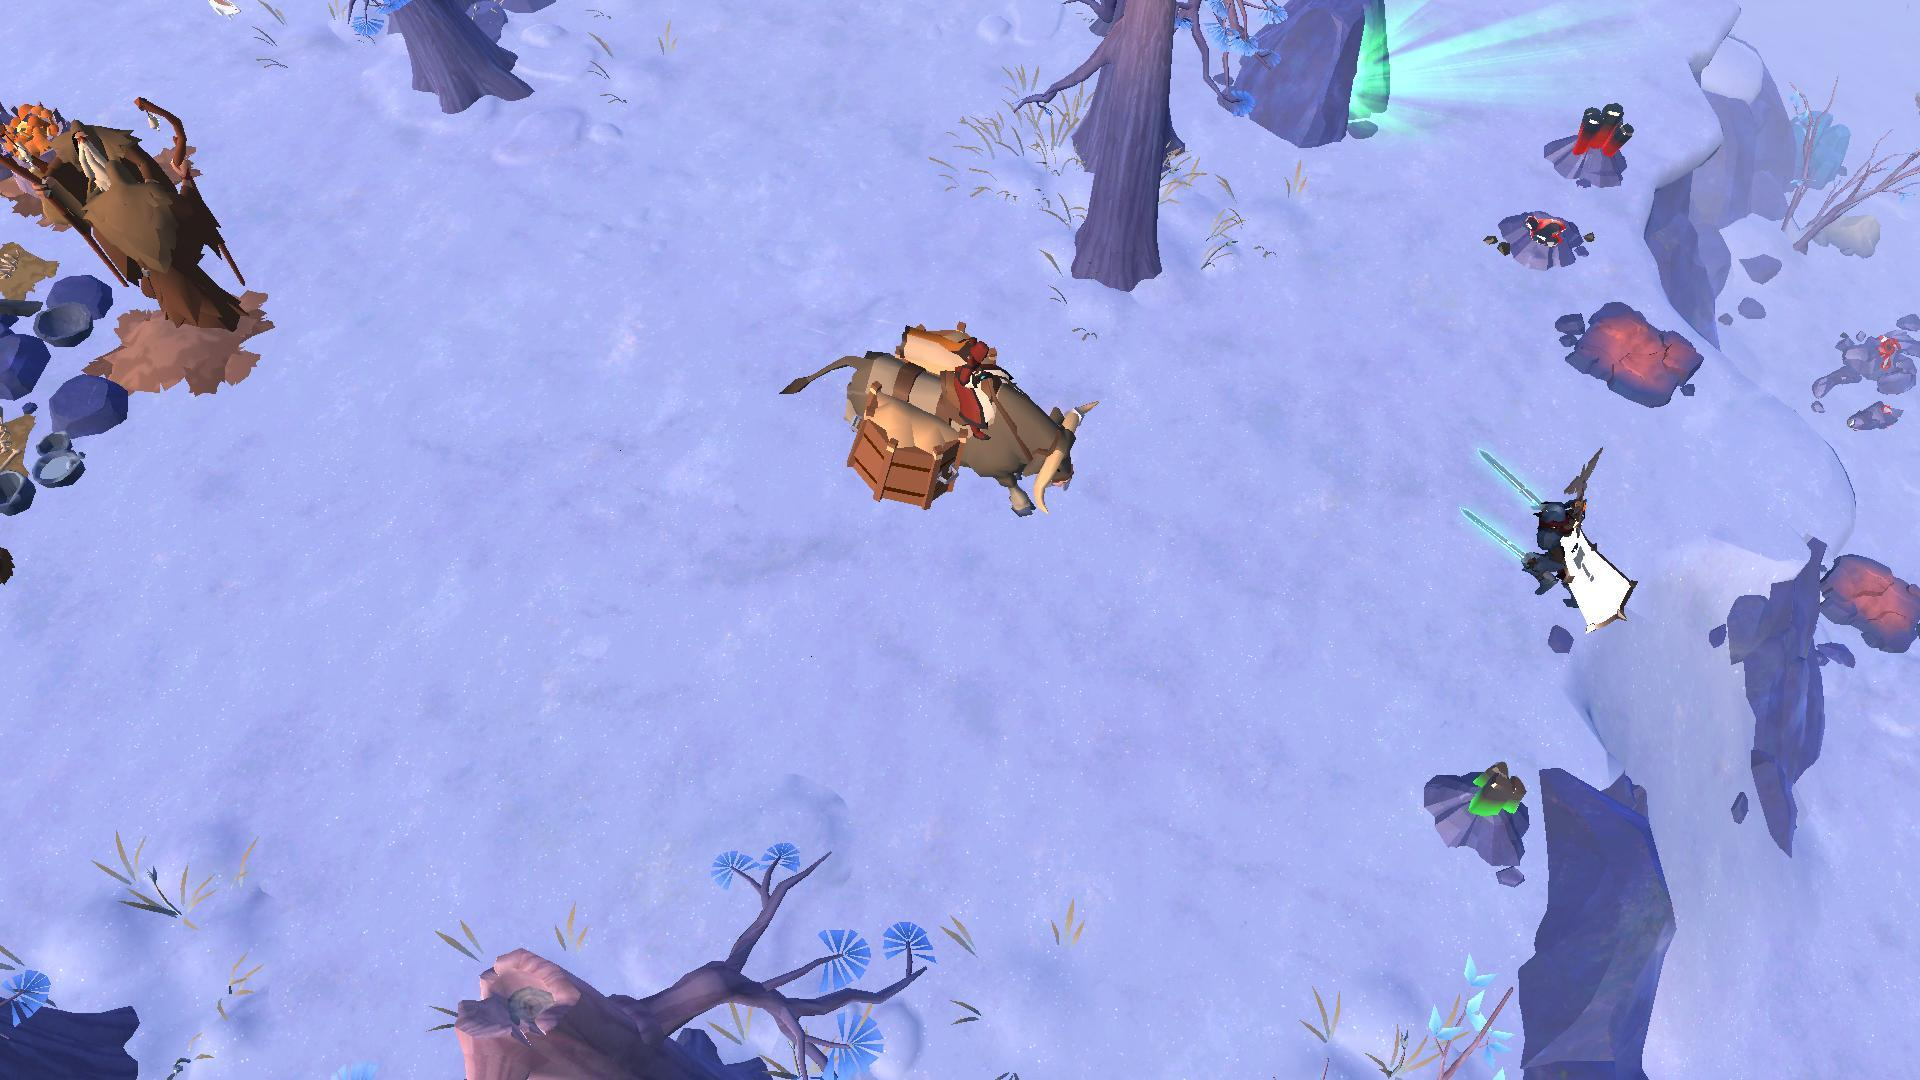enemy_factionKeeper: (79, 152, 281, 348), (32, 109, 177, 289)
ore_t3: (1461, 760, 1528, 831)
ore_t5: (1565, 91, 1631, 166)
rock_t4: (1776, 108, 1851, 191)
